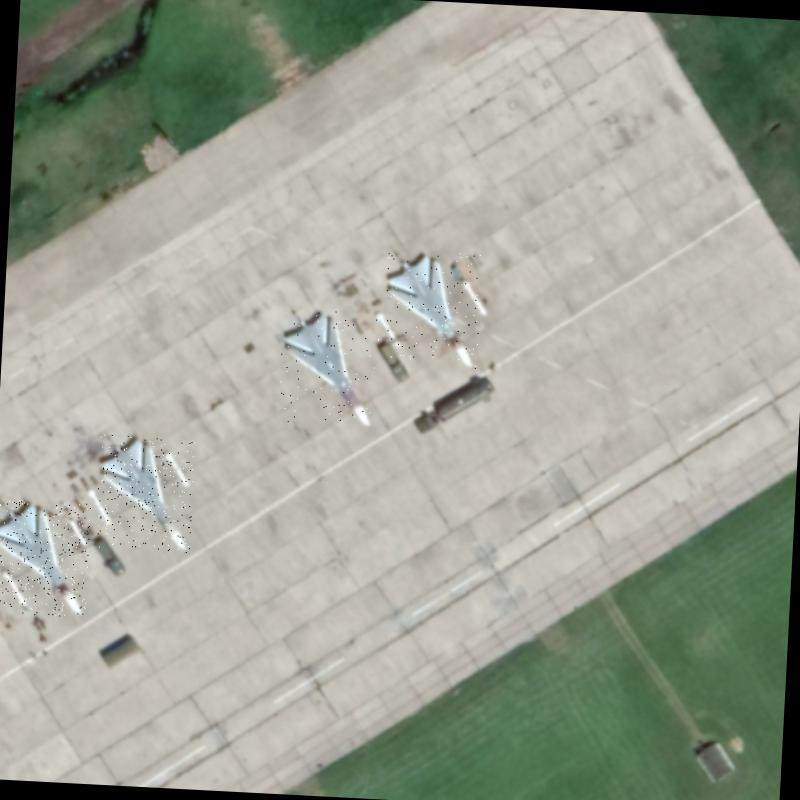A20: (276, 308, 380, 428), (94, 435, 196, 554), (382, 249, 483, 369), (0, 499, 91, 618)
